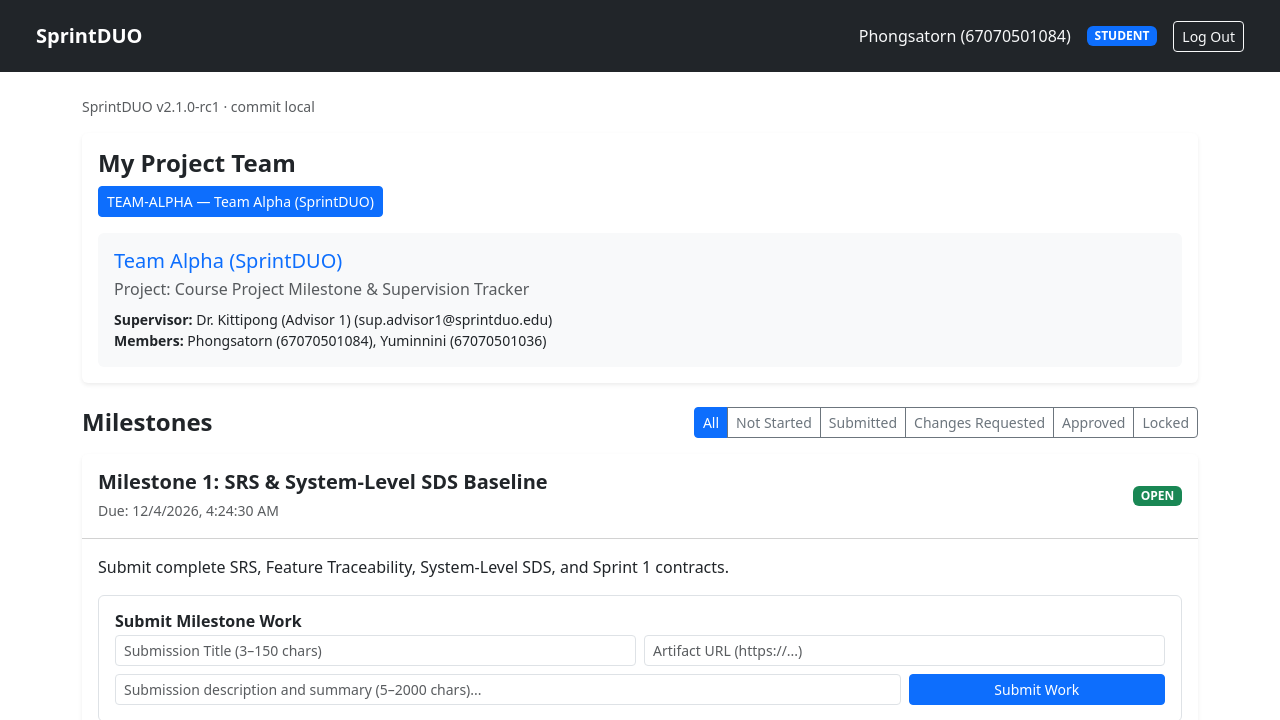
Test case: SprintDUO Client UI — TEST-03 & TEST-04 Student Submission & Persisted View › TEST-03: renders Student dashboard, submits milestone work, and displays persisted submission & feedback
Expected: the heading "My Project Team" is shown, [98,146,296,179]
Expected: the heading "Milestone 1: SRS & System-Level SDS Baseline" is shown, [98,470,548,494]
Step 1. Type "Sprint 1 Deliverable Package" into the field with test id "submission-title-101" → point(376, 650), box [115,635,636,666]
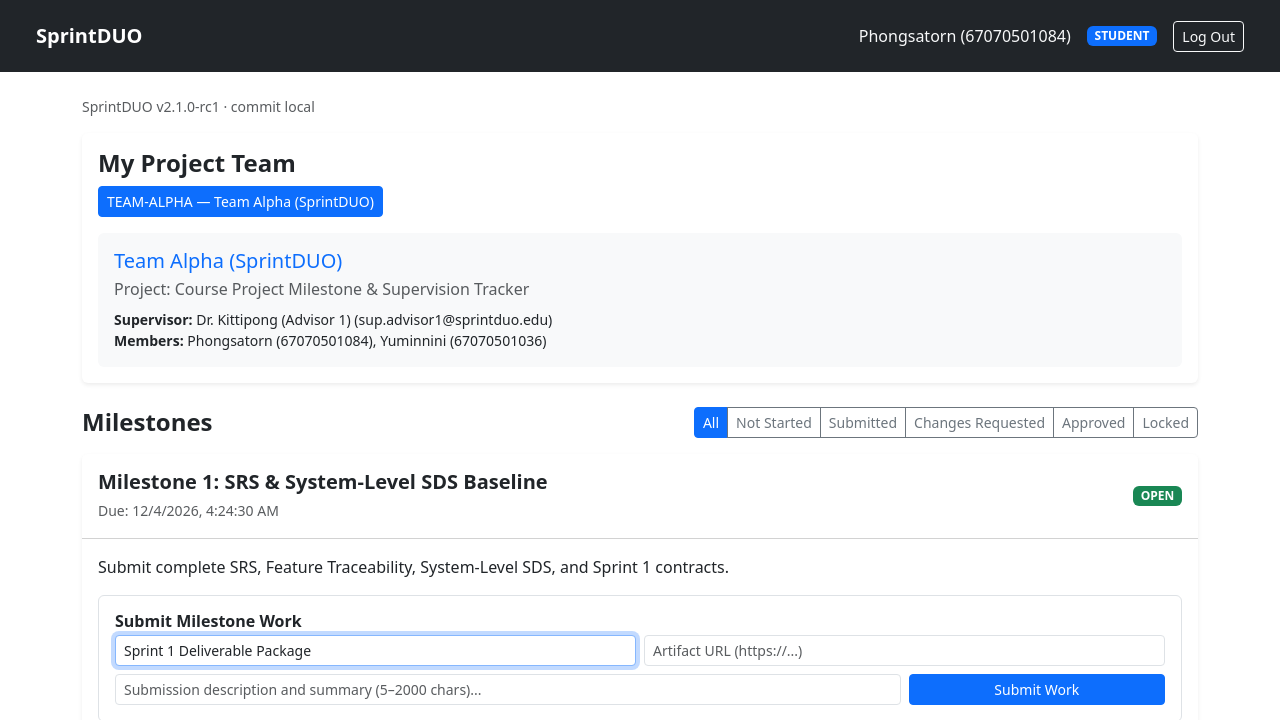
Step 2. Type "https://github.com/JinggXd/course-project-sprintDUO" into the field with test id "submission-url-101" → point(904, 650), box [644,635,1165,666]
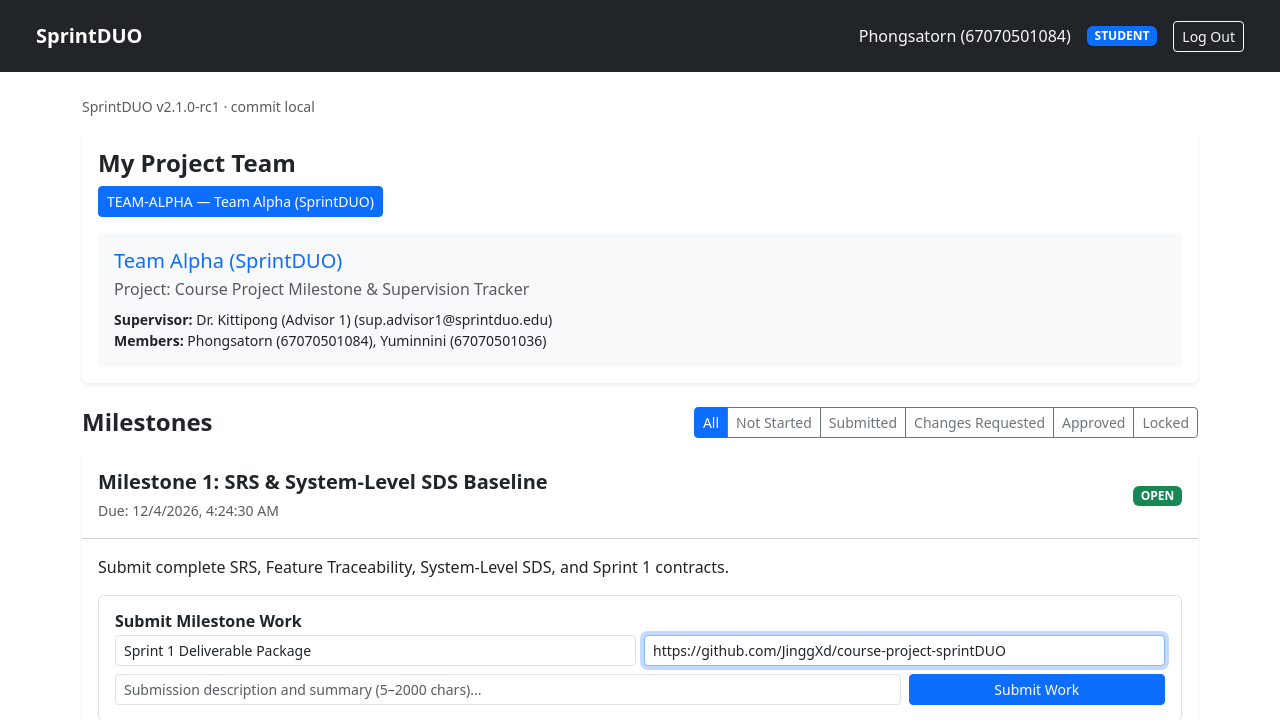
Step 3. Type "Submitted SRS, SDS, and Sprint 1 contracts." into the field with test id "submission-desc-101" → point(508, 690), box [115,674,900,705]
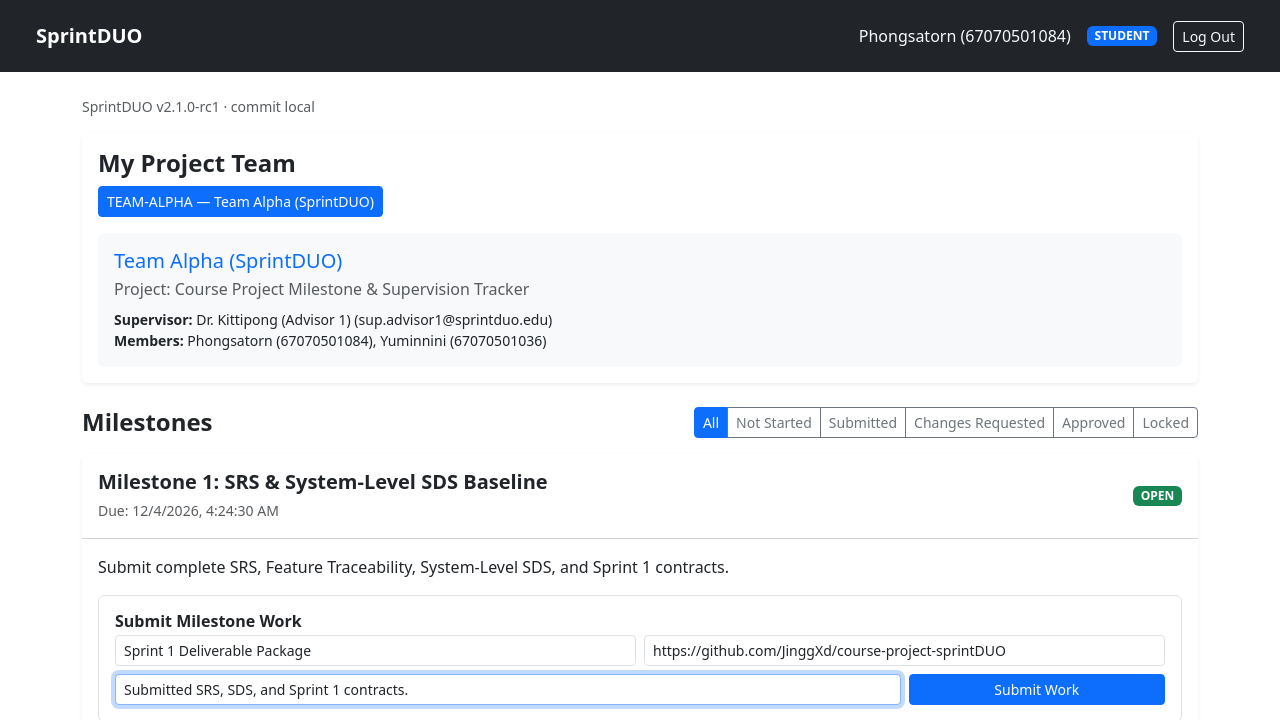
Step 4. Click the button with test id "submission-submit-101" → point(1037, 690), box [908,674,1165,705]
(page scrolled)
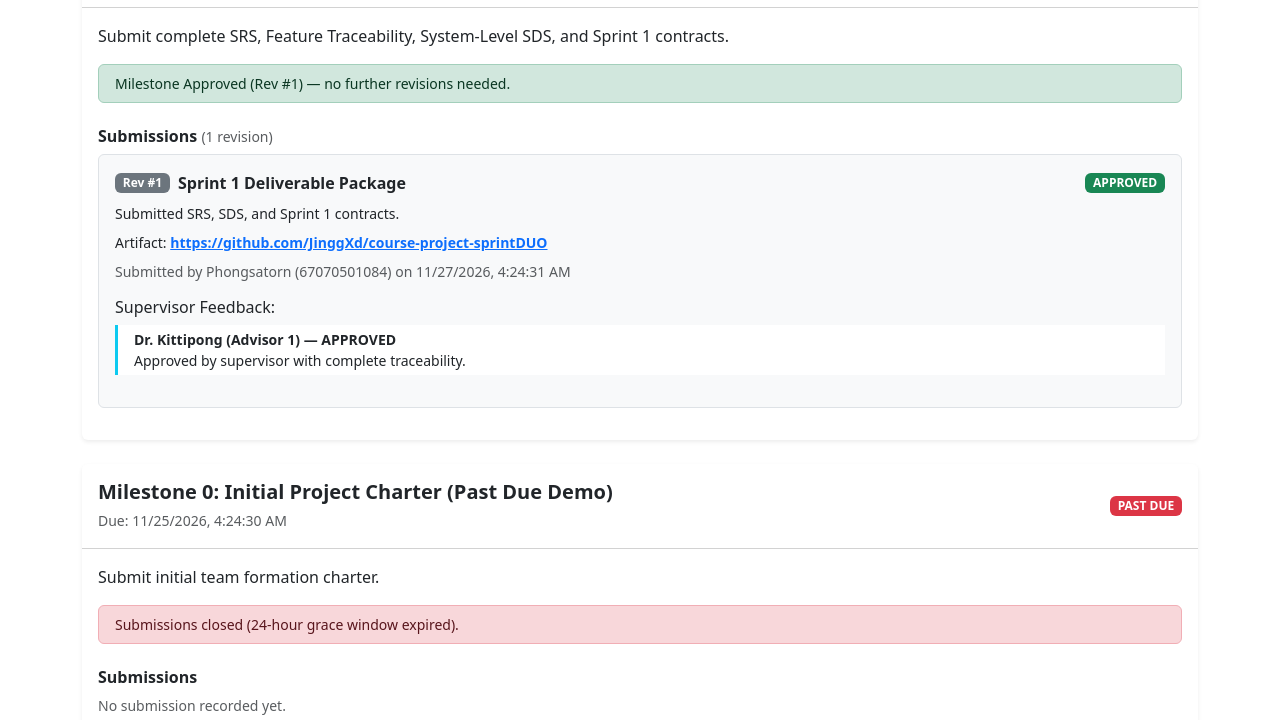
Expected: the text "Sprint 1 Deliverable Package" is shown, [178,171,406,195]
Expected: the text "Approved by supervisor with complete traceability." is shown, [134,351,466,370]
